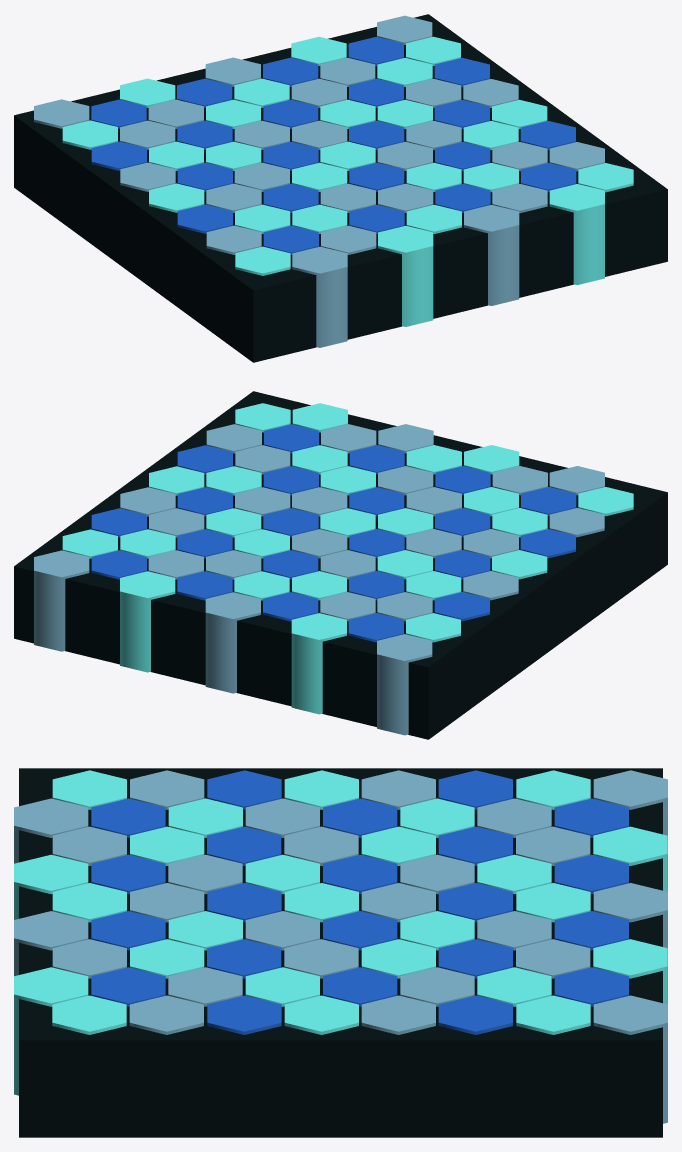
The picture shows the model from 3 angles, top to bottom: view 1: azimuth 30°, elevation 25°; view 2: azimuth 150°, elevation 25°; view 3: azimuth 270°, elevation 25°; orthographic projection. The views are drawn at different scales.
Visible parts, largest first — view 1: Box001, Cylinder090, Cylinder006, Cylinder089, Cylinder012, Cylinder088, Cylinder076, Cylinder071, Cylinder072, Cylinder073, Cylinder099, Cylinder082 (+61 smaller); view 2: Box001, Cylinder049, Cylinder099, Cylinder054, Cylinder096, Cylinder044, Cylinder073, Cylinder078, Cylinder082, Cylinder088, Cylinder071, Cylinder047 (+61 smaller); view 3: Box001, Cylinder054, Cylinder006, Cylinder099, Cylinder049, Cylinder090, Cylinder089, Cylinder096, Cylinder012, Cylinder044, Cylinder032, Cylinder066 (+61 smaller).
Boxes of the visible parts, <box> form: Box001: <box>14,14,667,362</box>; Cylinder090: <box>378,225,433,326</box>; Cylinder006: <box>549,184,604,285</box>; Cylinder089: <box>292,246,347,347</box>; Cylinder012: <box>464,205,519,305</box>; Cylinder088: <box>235,246,290,275</box>; Cylinder076: <box>62,120,117,149</box>; Cylinder071: <box>177,204,232,233</box>; Cylinder072: <box>149,183,204,212</box>; Cylinder073: <box>91,141,146,170</box>; Cylinder099: <box>34,99,89,128</box>; Cylinder082: <box>206,225,261,254</box>; Box001: <box>14,391,667,739</box>; Cylinder049: <box>205,592,260,693</box>; Cylinder099: <box>377,634,432,735</box>; Cylinder054: <box>34,550,89,651</box>; Cylinder096: <box>291,613,346,714</box>; Cylinder044: <box>120,571,175,672</box>; Cylinder073: <box>434,592,489,621</box>; Cylinder078: <box>463,571,518,600</box>; Cylinder082: <box>549,508,604,537</box>; Cylinder088: <box>578,487,633,516</box>; Cylinder071: <box>520,529,575,558</box>; Cylinder047: <box>177,571,232,600</box>; Box001: <box>19,768,662,1137</box>; Cylinder054: <box>593,995,667,1123</box>; Cylinder006: <box>14,967,88,1095</box>; Cylinder099: <box>593,770,667,891</box>; Cylinder049: <box>593,883,667,1003</box>; Cylinder090: <box>14,854,88,919</box>; Cylinder089: <box>14,798,88,863</box>; Cylinder096: <box>593,826,667,891</box>; Cylinder012: <box>14,911,88,976</box>; Cylinder044: <box>593,939,667,1004</box>; Cylinder032: <box>207,995,281,1034</box>; Cylinder066: <box>361,995,435,1034</box>.
Bounding box in the file's own units: 150 × 25.86 × 152.
